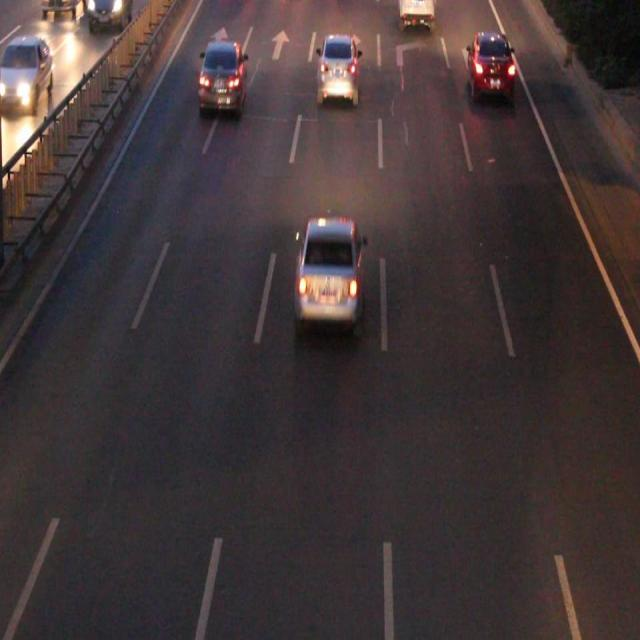car: (296, 220, 361, 316), (198, 44, 246, 109), (466, 34, 513, 96), (318, 38, 358, 101), (399, 1, 433, 26)
